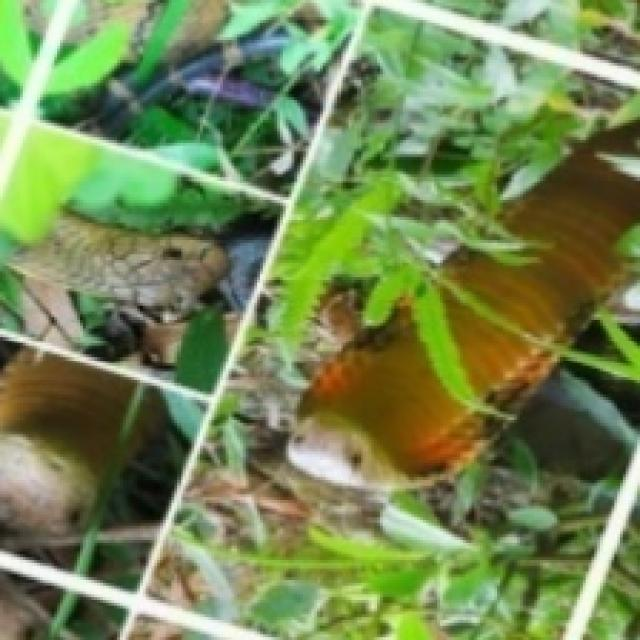king cobra: (429, 154, 637, 406), (286, 306, 491, 489), (0, 349, 131, 531), (11, 211, 226, 320)
